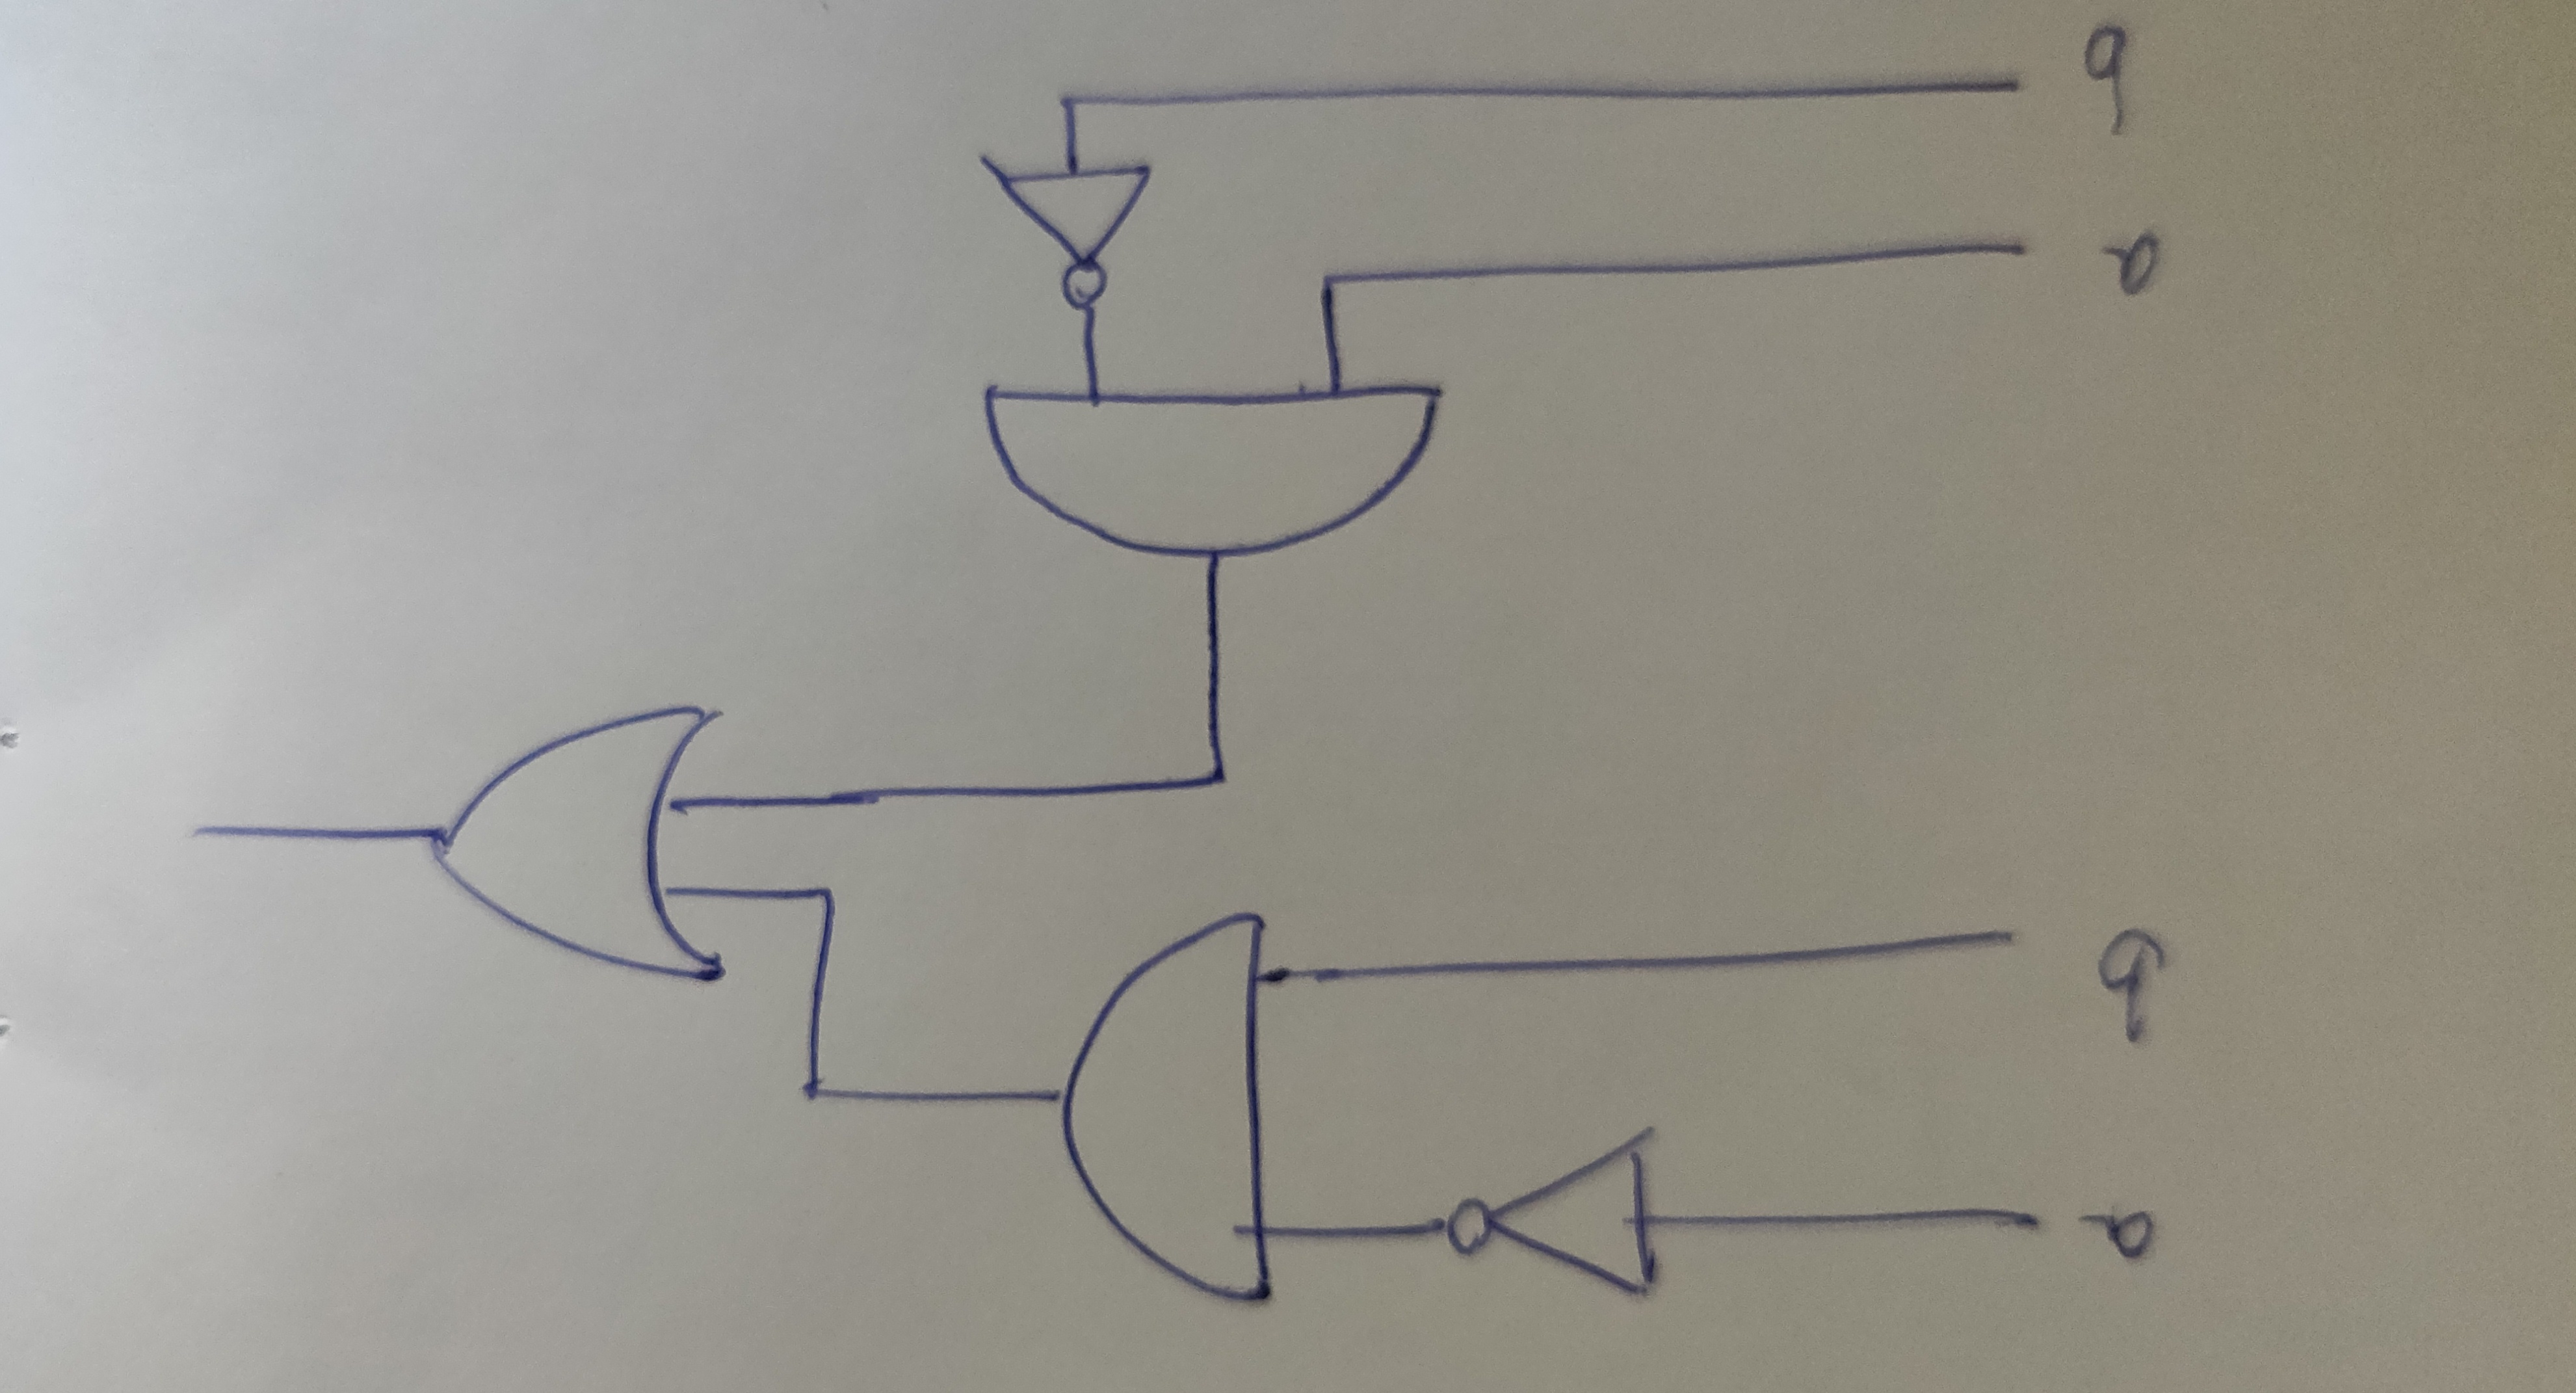and: (1027, 875, 1360, 1331), (962, 340, 1470, 602)
not: (1415, 1122, 1705, 1328), (962, 141, 1197, 323)
or: (394, 657, 761, 1034)
